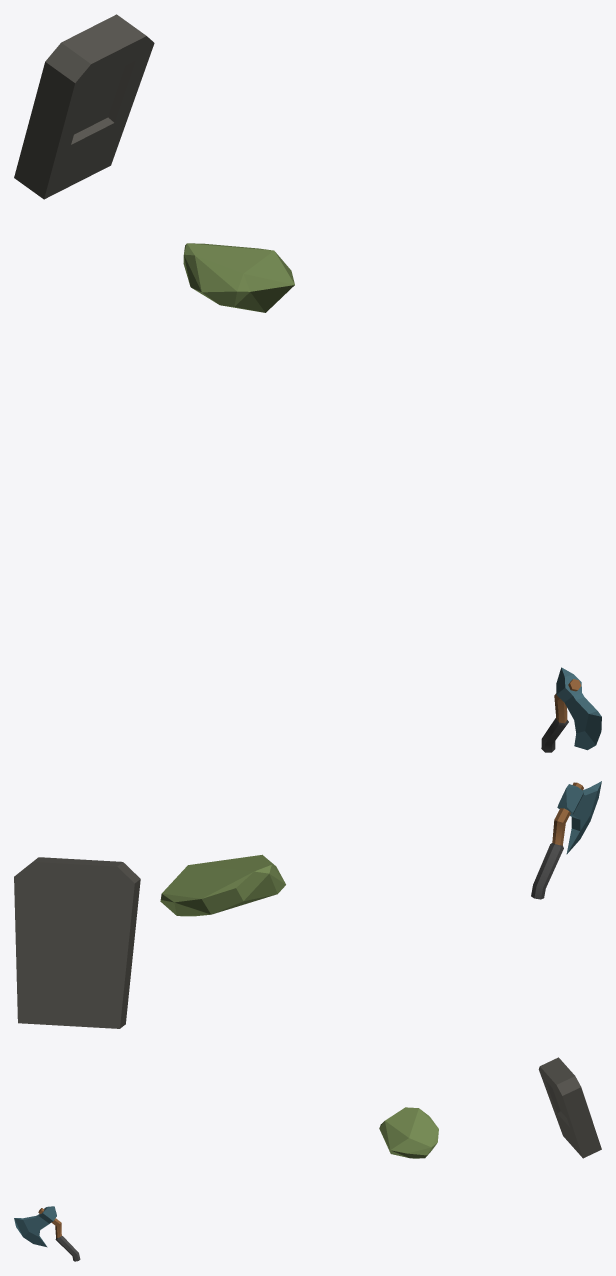
The picture shows the model from 3 angles, top to bottom: view 1: azimuth 30°, elevation 25°; view 2: azimuth 150°, elevation 25°; view 3: azimuth 270°, elevation 25°; orthographic projection. The views are drawn at different scales.
Visible parts, largest first — view 1: Box605_wall_0, Box142_green3_0, Line1294_metal_0; view 2: Box605_wall_0, Box142_green3_0, Line1294_metal_0, Line1294_black_0, Line1294_brown_0; view 3: Box605_wall_0, Box142_green3_0, Line1294_metal_0.
Boxes of the visible parts, left/top/right/bottom form: Box605_wall_0: left=14, top=14, right=154, bottom=199; Box142_green3_0: left=183, top=243, right=294, bottom=312; Line1294_metal_0: left=556, top=667, right=601, bottom=750; Box605_wall_0: left=14, top=857, right=140, bottom=1028; Box142_green3_0: left=160, top=854, right=285, bottom=916; Line1294_metal_0: left=557, top=781, right=601, bottom=854; Line1294_black_0: left=531, top=843, right=563, bottom=899; Line1294_brown_0: left=552, top=782, right=583, bottom=845; Box605_wall_0: left=538, top=1057, right=601, bottom=1158; Box142_green3_0: left=379, top=1107, right=438, bottom=1158; Line1294_metal_0: left=14, top=1206, right=56, bottom=1247.
Size of the model in its own units: 81.89 by 242 by 654.
